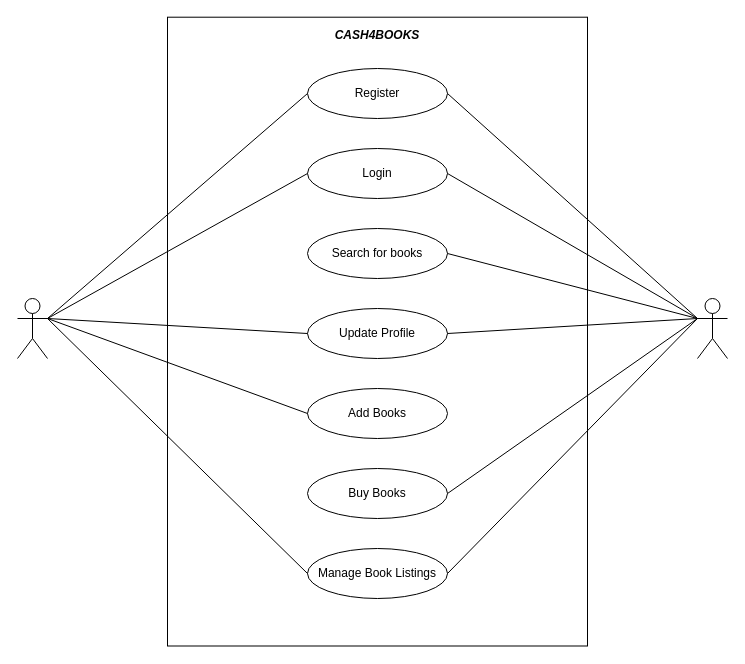
Some shapes in this 745 by 664 pixel diagram are drawn without their labels. The box of each missing label's shape, as (x1, y1, x2, y2) in pixels:
Buyer: (696, 298, 728, 358)
Seller: (16, 298, 48, 358)
